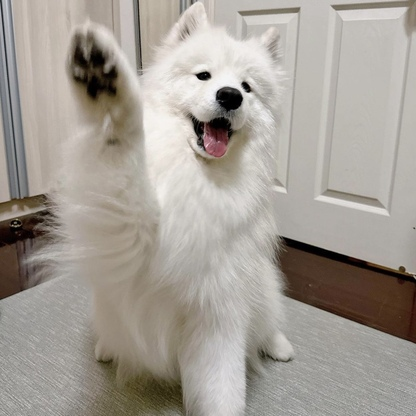samoyed: (35, 1, 304, 416)
